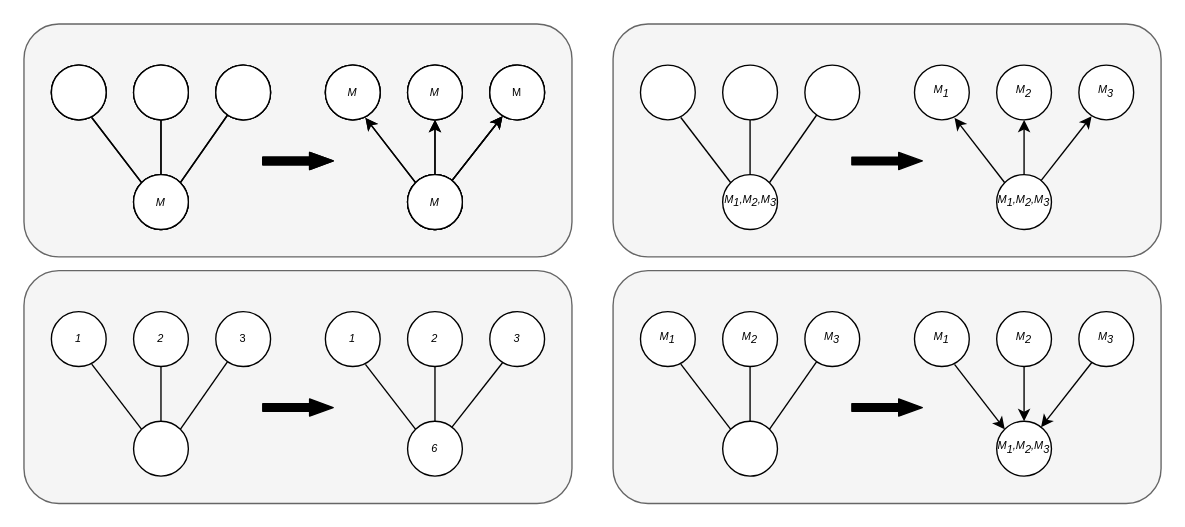
Some shapes in this 1185 by 527 pixel diagram are drawn without their labels. The shapes that lost their labels are listed below. From the top down, each one's box as (x1, y1, x2, y2) in pixels, then its label:
(23, 23, 572, 257): Broadcast
(612, 23, 1161, 257): Scatter
(23, 269, 572, 503): Reduce
(612, 269, 1161, 503): Gather
